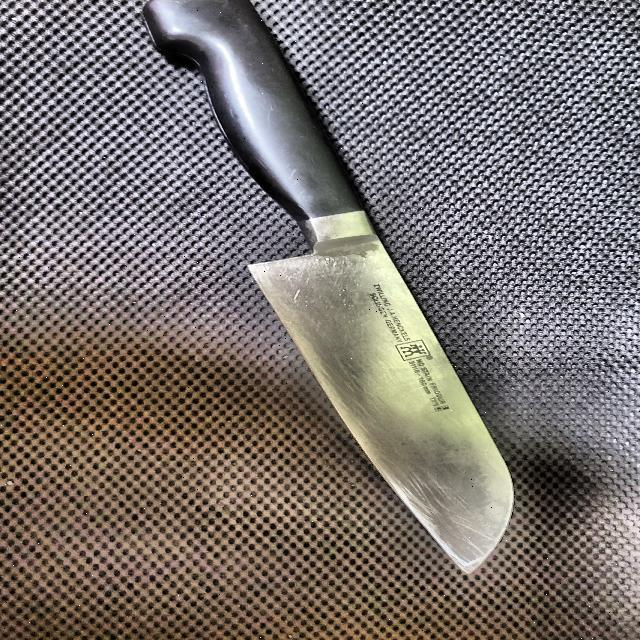knife: (144, 0, 520, 574)
